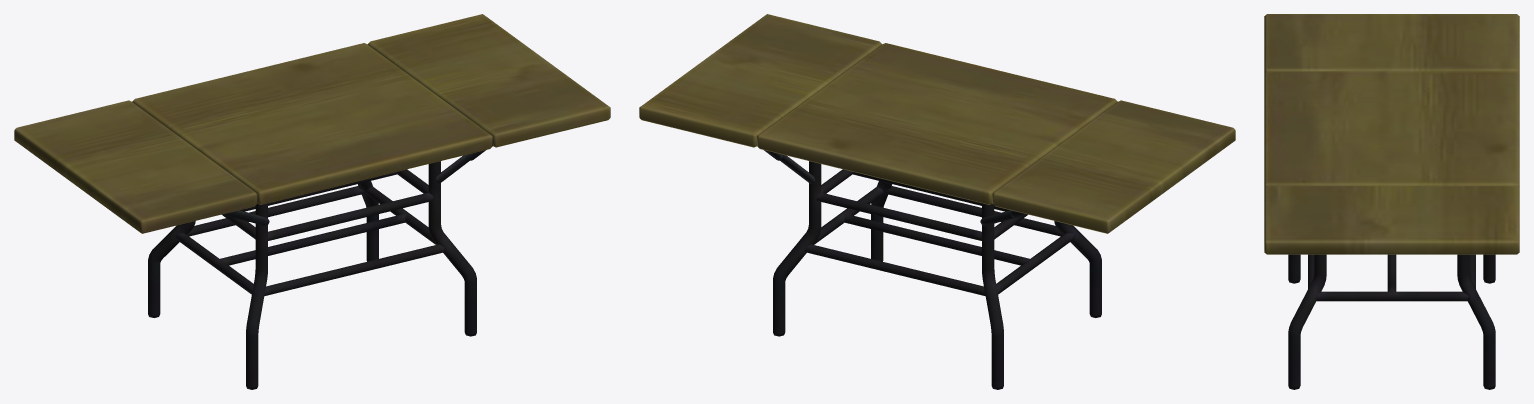
3 renders of one model, left to right at view 1: azimuth 30°, elevation 25°; view 2: azimuth 150°, elevation 25°; view 3: azimuth 270°, elevation 25°, orthographic.
Bounding box in the file's own units: 19.05 × 8.05 × 8.99.
Materials: 1 (1 with a texture image).
